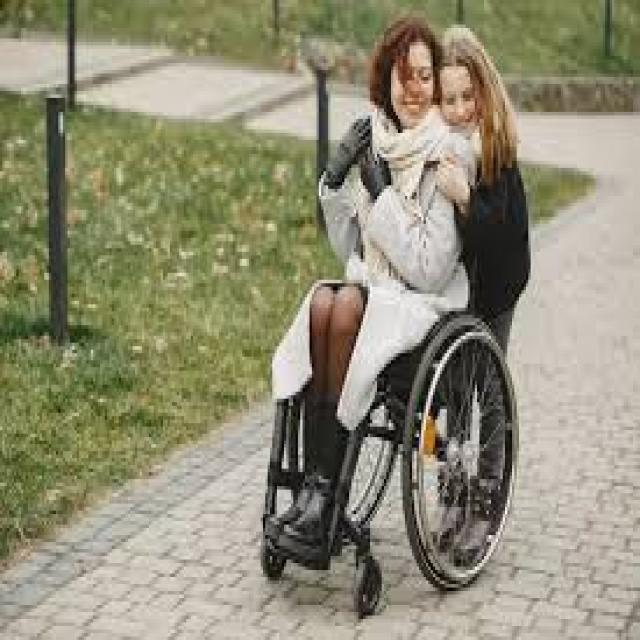wheelchairs: (238, 113, 561, 638)
